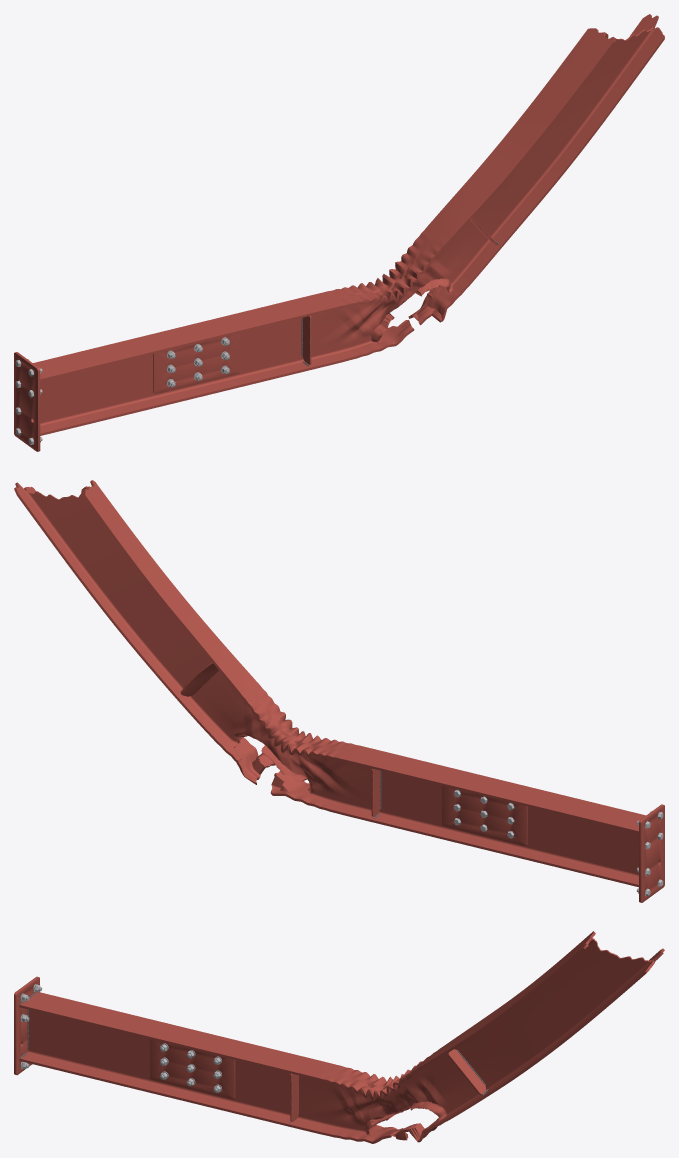
Rendered from steel_girder_premium.glb.
The picture shows the model from 3 angles, top to bottom: view 1: azimuth 30°, elevation 25°; view 2: azimuth 150°, elevation 25°; view 3: azimuth 330°, elevation 25°; orthographic projection.
Parts seen in each view (by area): view 1: steel_girder_premium, bolts; view 2: steel_girder_premium, bolts; view 3: steel_girder_premium, bolts.
Boxes of the visible parts, x1,y1,x2,y2 form: steel_girder_premium: [14, 14, 664, 451]; bolts: [15, 337, 229, 444]; steel_girder_premium: [14, 480, 664, 902]; bolts: [453, 789, 663, 896]; steel_girder_premium: [14, 931, 664, 1143]; bolts: [20, 984, 221, 1092].
Bounding box in the file's own units: 4.03 × 1.64 × 0.2763.
